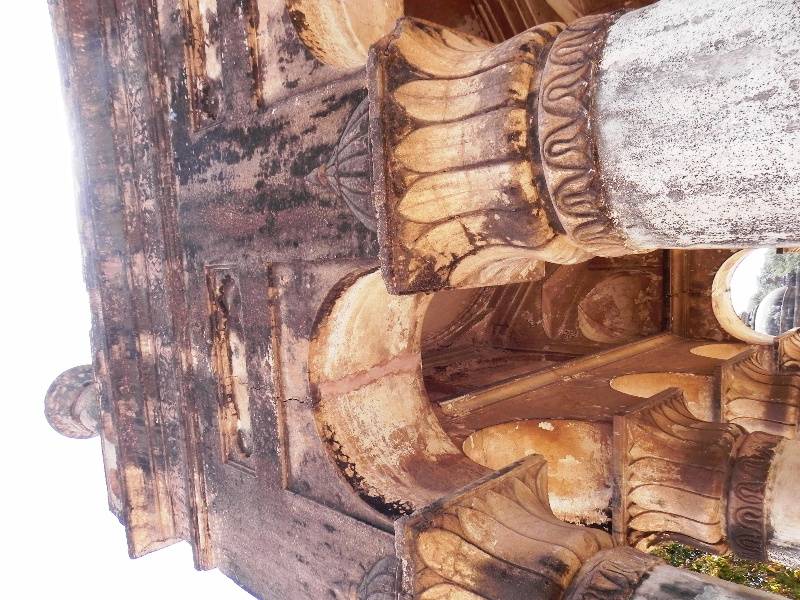Crack: (277, 392, 311, 405)
